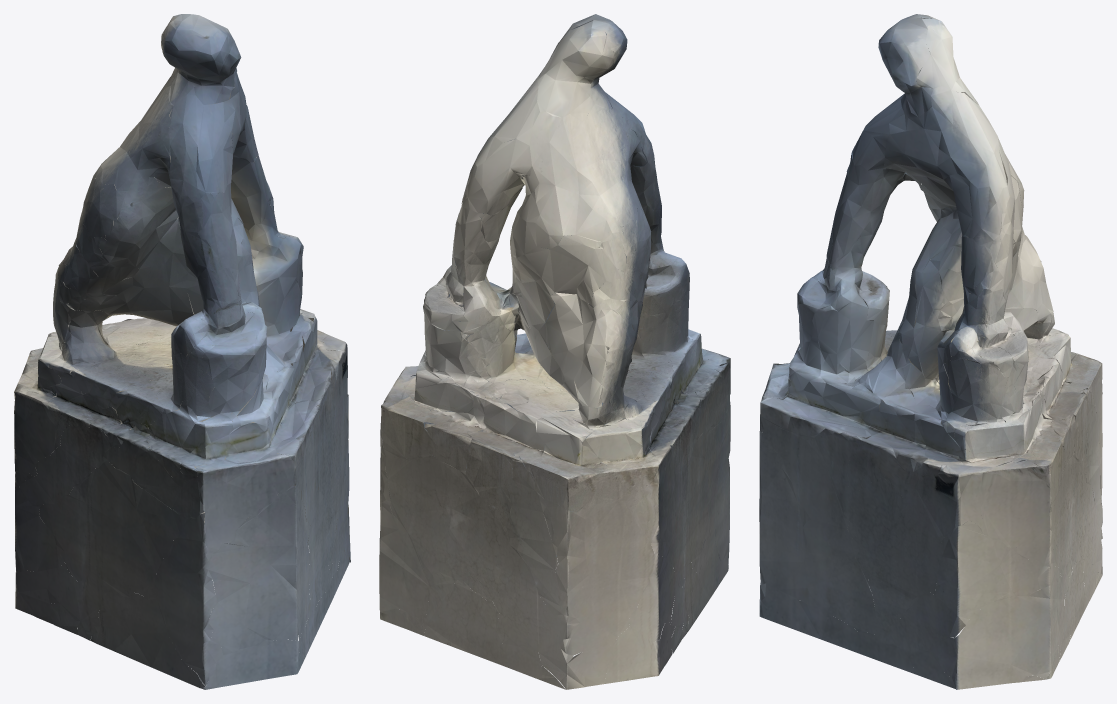
Rendered from vatnsberi_an_gras_dec.obj.
3 views of the same model, side by side, from view 1: azimuth 30°, elevation 25°; view 2: azimuth 150°, elevation 25°; view 3: azimuth 270°, elevation 25° (orthographic). The views are drawn at different scales.
Visible parts, largest first — view 1: Object; view 2: Object; view 3: Object.
Part boxes in pixels (bbox=[...]): Object: bbox=[14, 14, 350, 689]; Object: bbox=[379, 14, 730, 689]; Object: bbox=[759, 14, 1102, 689].
Size of the model in its own units: 1.74 by 3.37 by 1.78.
1 material, 1 textured.
